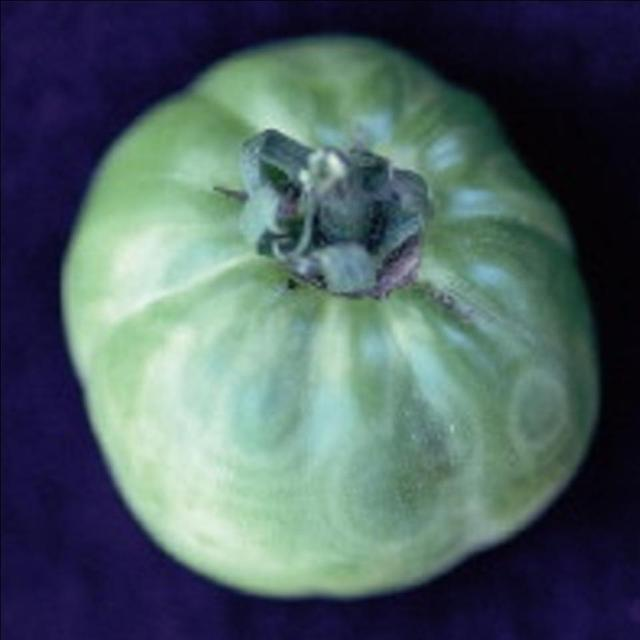Spotted wilt Virus Fruit: (43, 178, 180, 567)
